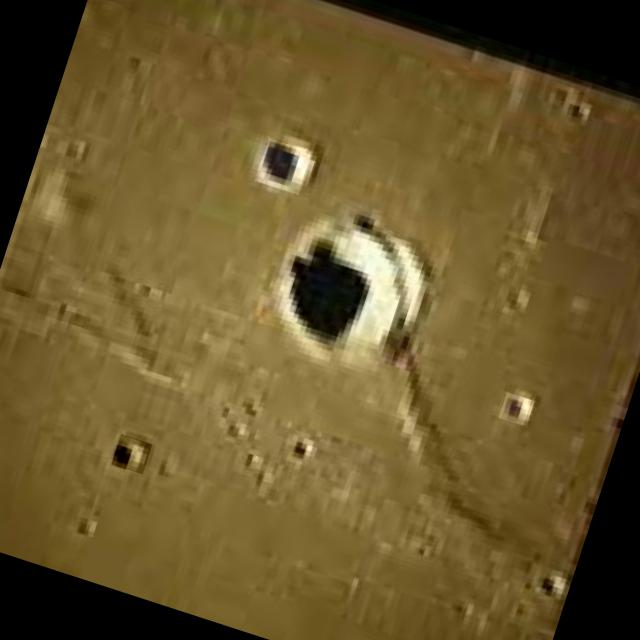crater: (268, 204, 435, 372), (255, 138, 313, 196), (111, 434, 152, 474), (498, 392, 532, 426)
